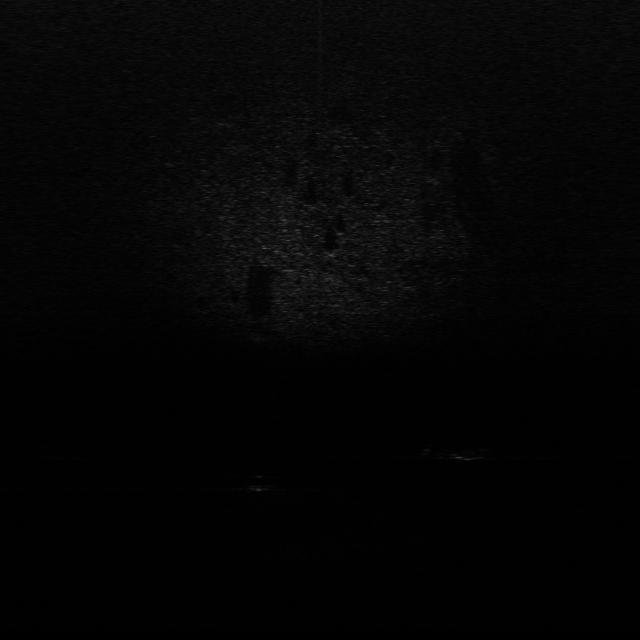ball: (247, 471, 273, 495)
human body: (417, 442, 494, 465)
